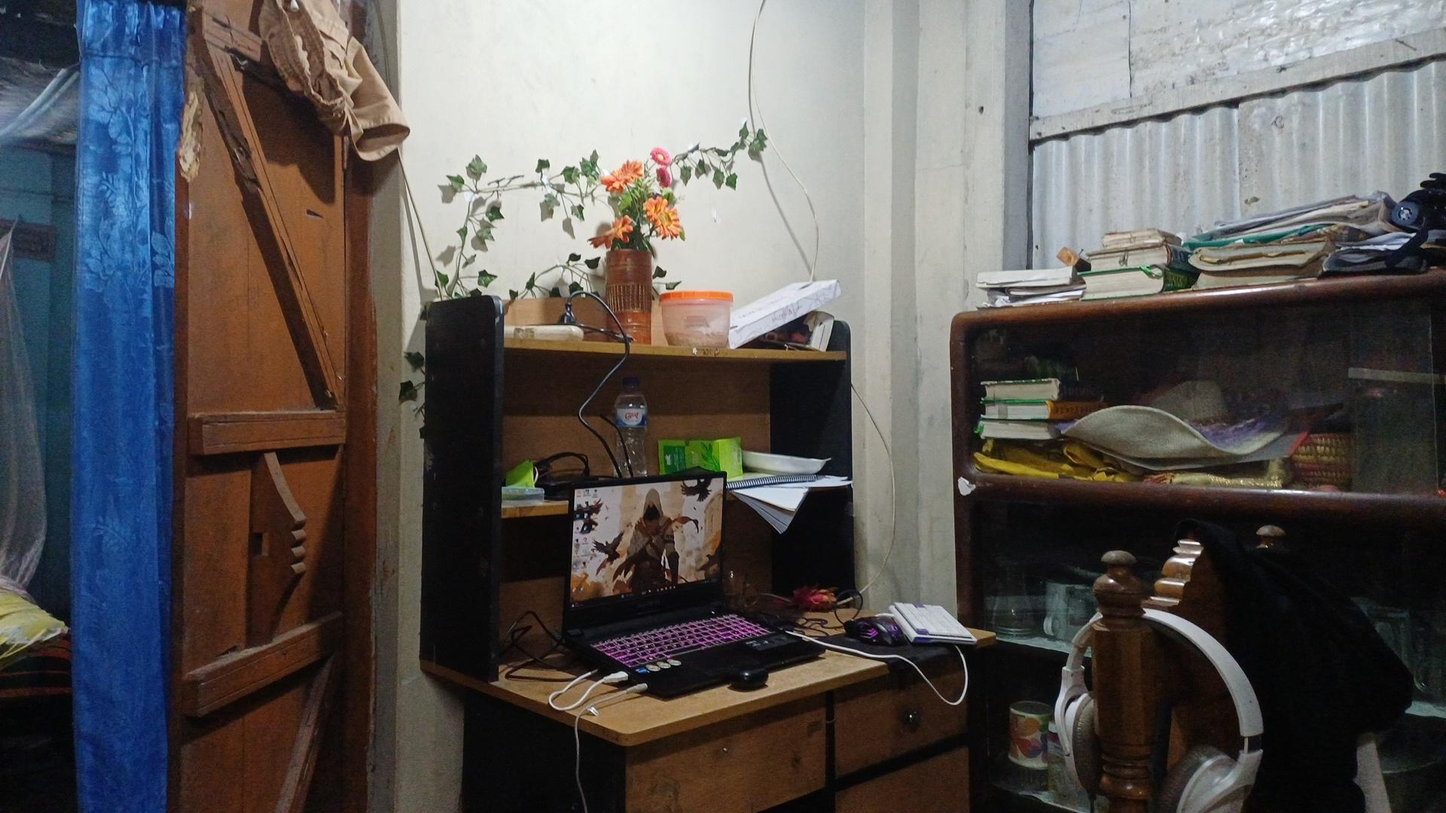Book: (975, 365, 1079, 444), (1079, 220, 1171, 297), (1198, 233, 1328, 286)
Bottle: (611, 380, 657, 470)
Box: (669, 423, 747, 491), (713, 335, 862, 366)
Door: (15, 13, 393, 797)
Drawer: (814, 690, 1018, 774)
Food: (665, 281, 739, 354)
Keyboard: (883, 592, 970, 656)
Laptop: (551, 478, 812, 668)
Mouse: (833, 608, 896, 655)
Plant: (576, 142, 658, 338)
